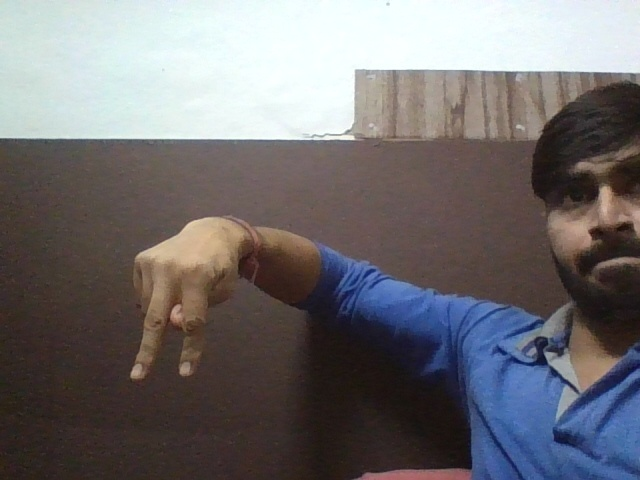P: (112, 219, 244, 384)
